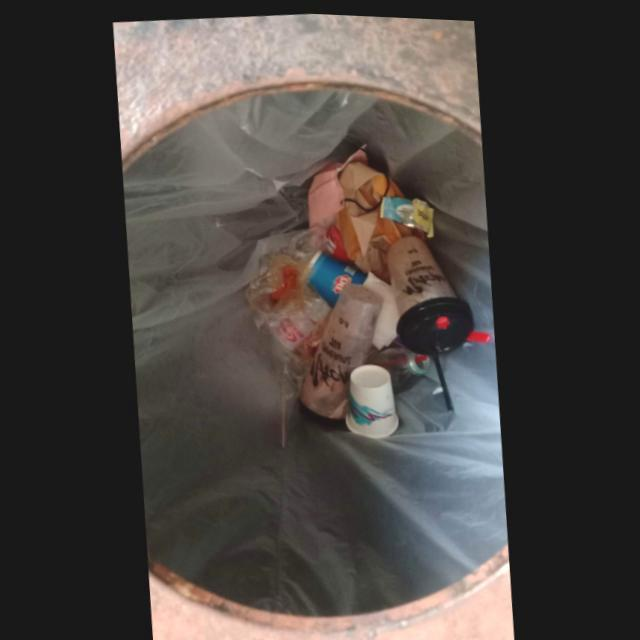cardboard: (346, 360, 400, 435), (306, 247, 367, 303)
food_wrapper: (380, 192, 434, 233)
paper: (363, 267, 399, 345)
plastic_bag: (246, 220, 337, 329)
plastic_container: (299, 280, 384, 427), (388, 230, 476, 354)
